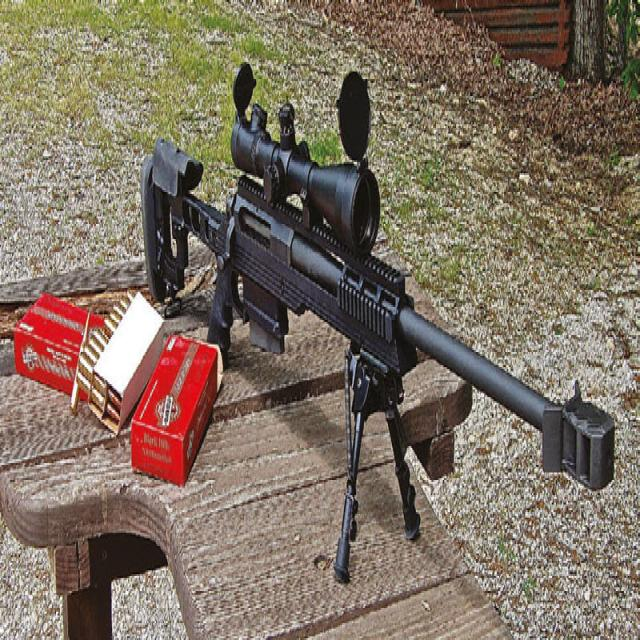Rifle: (142, 66, 616, 491)
